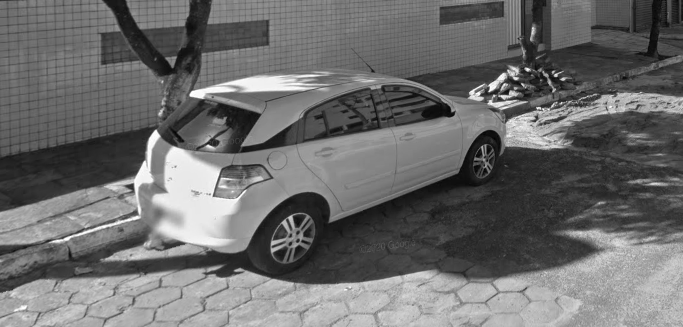car: (132, 46, 509, 277)
